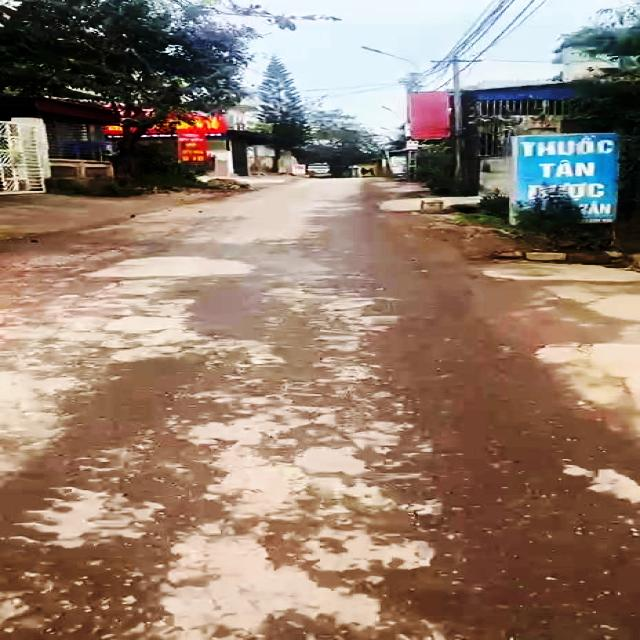pothole: (0, 533, 179, 640)
